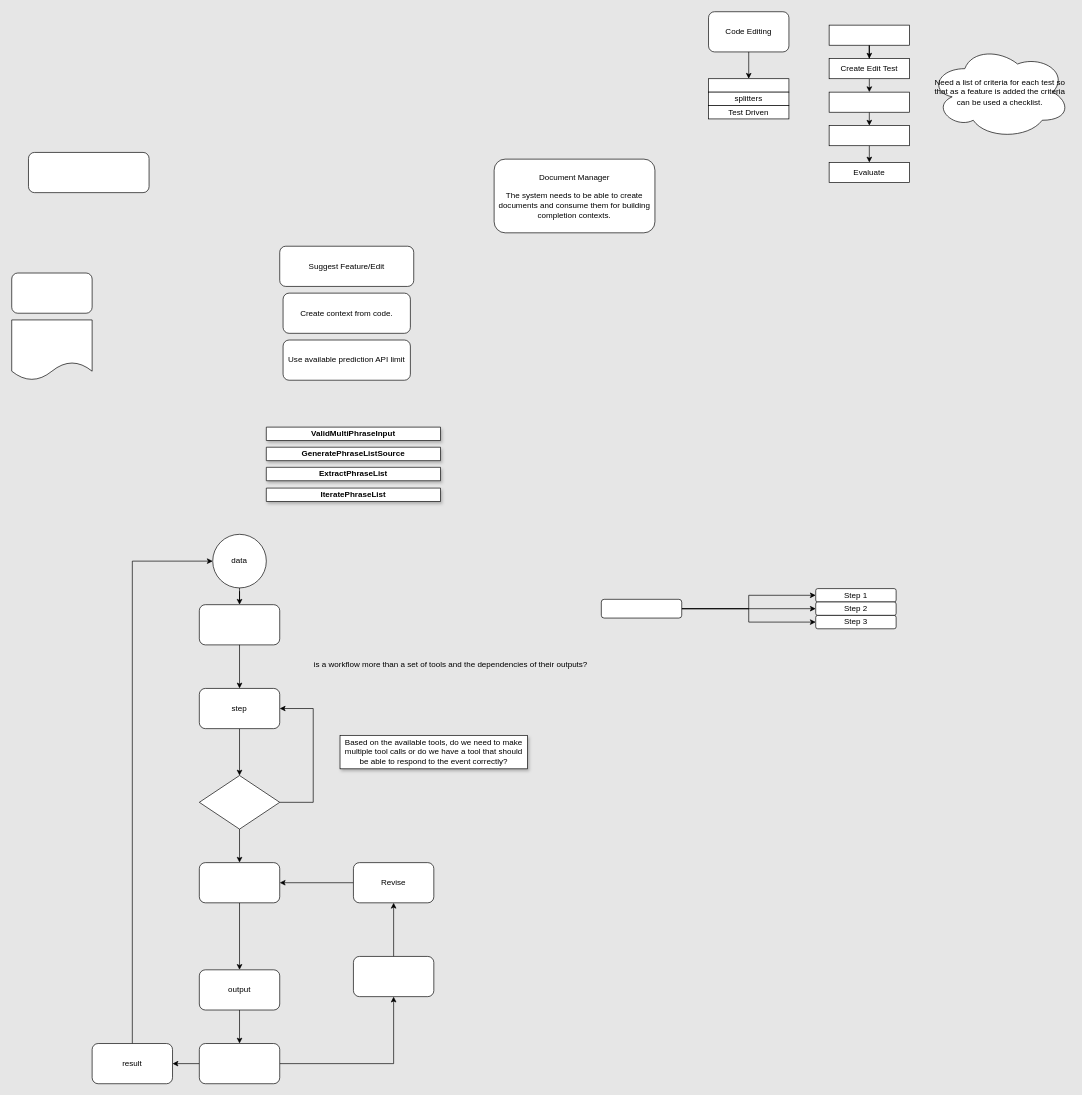
The diagram is 1082 pixels wide and 1095 high, and some of its shapes have lost their labels. Here are the shapes that lost their labels. From the top down, the centre of each, then its label:
At (869,34): "Propose Edit".
At (748,85): "repositories".
At (869,101): "Create Edit Main".
At (869,135): "Run Test".
At (51,292): "Add Tool".
At (51,349): "Allow the system to create tools in descendent processes".
At (239,624): "plan".
At (641,608): "Generate Steps".
At (239,802): "workflow or tool".
At (239,882): "tool".
At (393,976): "reflect".
At (239,1063): "eval".
